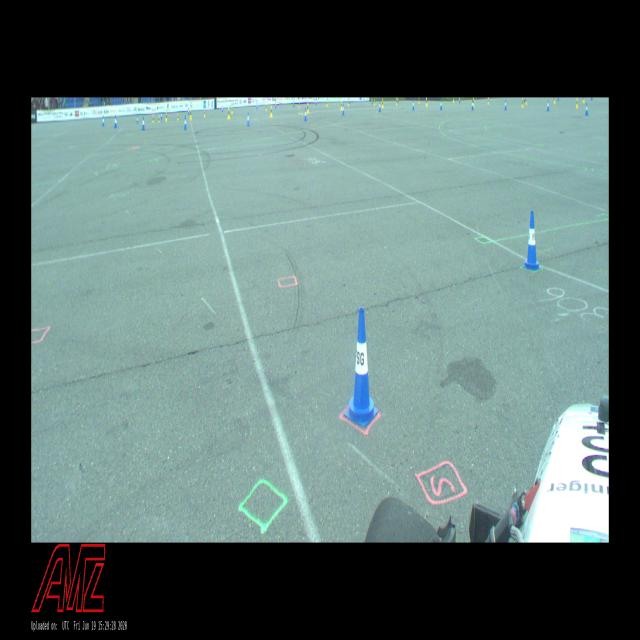blue_cone: (345, 308, 378, 427), (525, 211, 539, 270), (247, 111, 250, 126), (184, 116, 187, 130), (114, 115, 117, 128), (304, 108, 307, 121), (142, 117, 145, 130), (585, 103, 588, 115), (102, 115, 105, 126), (378, 101, 381, 112), (342, 104, 344, 116), (504, 99, 506, 110), (412, 100, 414, 110), (440, 100, 442, 110), (547, 100, 549, 110), (472, 100, 474, 110), (161, 112, 163, 119), (275, 101, 277, 108), (315, 100, 317, 105), (137, 116, 138, 123), (188, 108, 189, 115), (222, 105, 223, 112), (293, 101, 294, 107), (372, 98, 372, 104)
yellow_cone: (270, 106, 273, 118), (165, 112, 168, 122), (190, 108, 192, 120), (228, 107, 230, 119), (576, 97, 578, 108), (203, 110, 206, 117), (307, 103, 309, 113), (525, 97, 527, 106), (340, 101, 342, 110), (382, 99, 384, 108), (522, 98, 524, 107), (177, 113, 179, 121), (426, 98, 428, 106), (231, 106, 233, 114), (158, 115, 160, 122), (152, 115, 154, 122), (418, 98, 420, 104), (326, 101, 328, 106), (396, 97, 397, 105), (299, 102, 300, 109), (266, 104, 267, 111), (374, 99, 375, 106), (488, 98, 489, 104), (348, 100, 349, 106)
